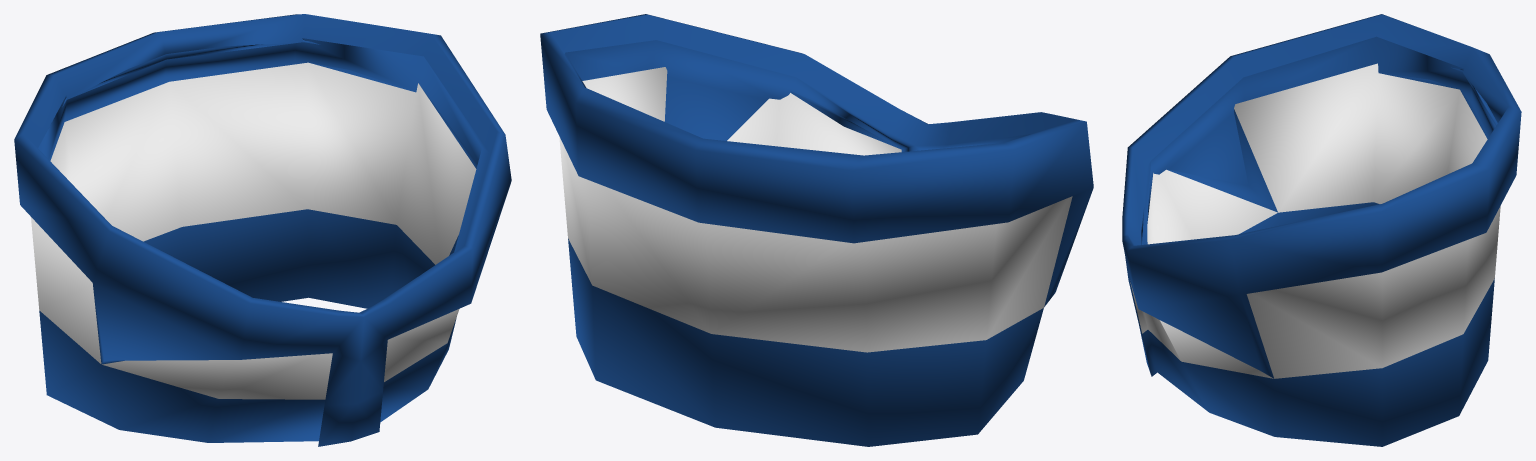
Rendered from RepairShopBossCloth.fbx.
3 renders of one model, left to right at view 1: azimuth 30°, elevation 25°; view 2: azimuth 150°, elevation 25°; view 3: azimuth 270°, elevation 25°, orthographic. The views are drawn at different scales.
Parts seen in each view (by area): view 1: RepairShopBossCloth; view 2: RepairShopBossCloth; view 3: RepairShopBossCloth.
Boxes of the visible parts, x1,y1,x2,y2 form: RepairShopBossCloth: [14, 14, 511, 446]; RepairShopBossCloth: [540, 14, 1093, 446]; RepairShopBossCloth: [1122, 14, 1521, 446].
Bounding box in the file's own units: 144 × 87.95 × 123.
